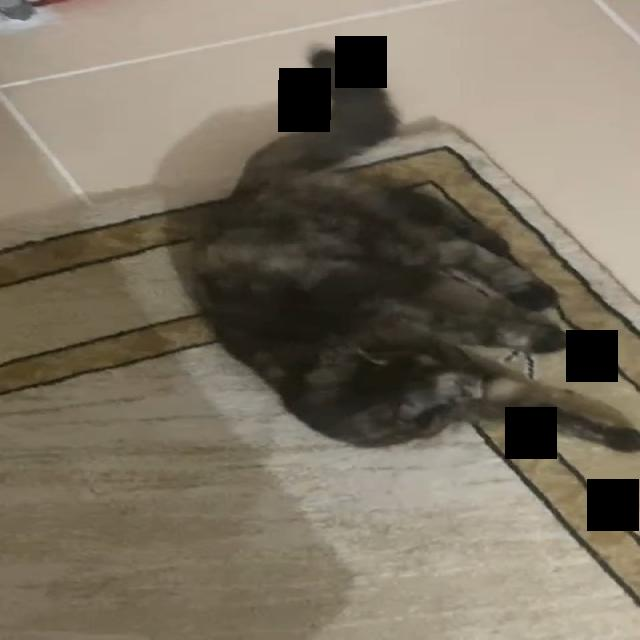authorized: (187, 44, 637, 453)
